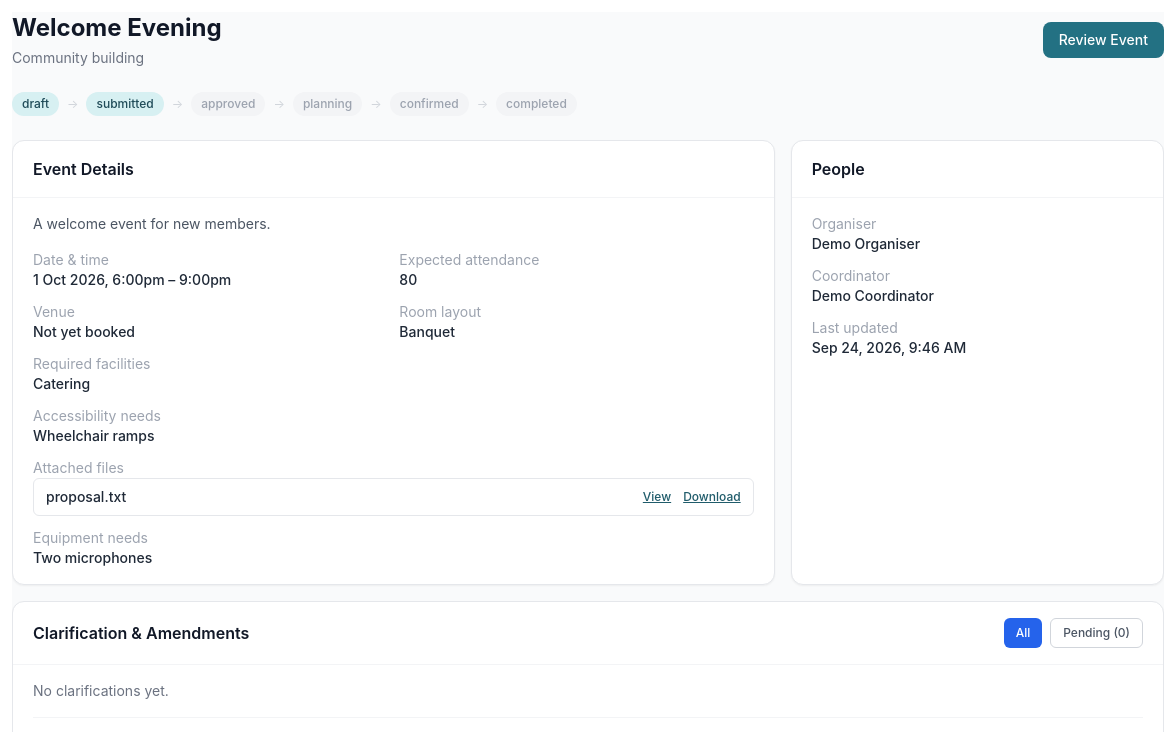
it: EventDetailPage › reveals approve/reject decision controls when the assigned coordinator opens Review Event
This screenshot has width=1176, height=732.
Expected: the heading "Welcome Evening" is shown, x1=12 y1=12 x2=222 y2=44
Click the button "Review Event" at point(1103, 40), box x1=1043 y1=22 x2=1164 y2=58
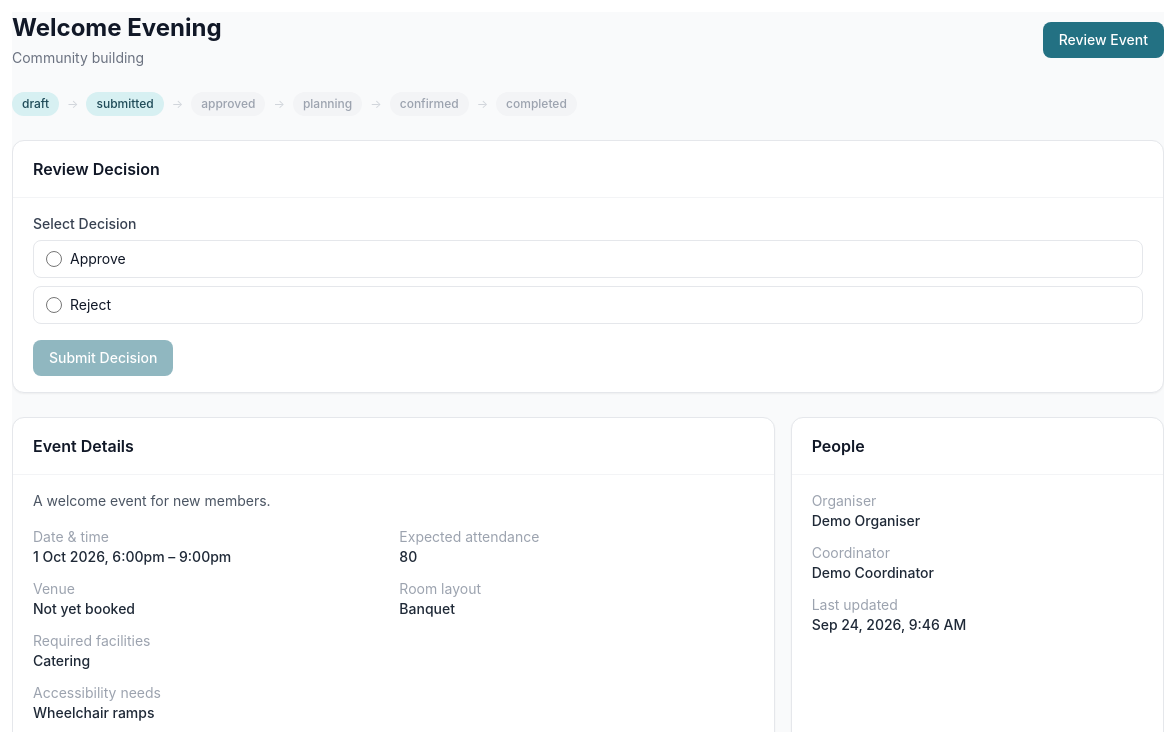
Now the radio button labelled "Approve" is shown, box x1=46 y1=251 x2=62 y2=267
Now the radio button labelled "Reject" is shown, box x1=46 y1=297 x2=62 y2=313
Now the button "Submit Decision" is shown, box x1=33 y1=340 x2=174 y2=376
